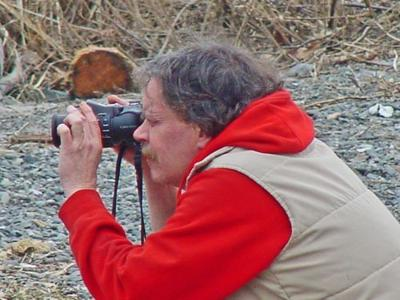person: (58, 46, 398, 299)
